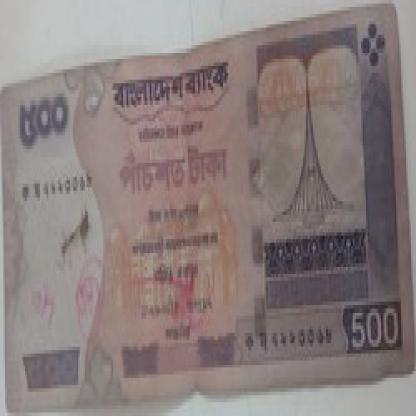500 taka: (13, 83, 85, 170), (343, 277, 409, 371), (120, 160, 233, 198)
currency: (3, 3, 414, 406)
